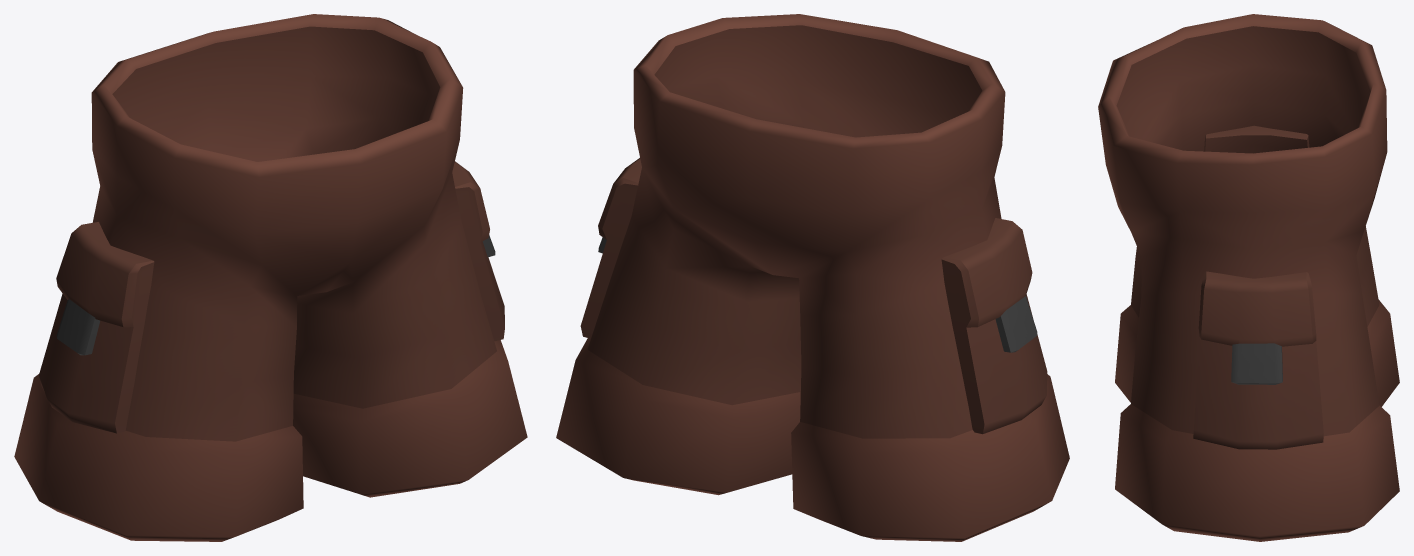
Rendered from Bottom_02_Slim.fbx.
The picture shows the model from 3 angles, left to right: view 1: azimuth 30°, elevation 25°; view 2: azimuth 150°, elevation 25°; view 3: azimuth 270°, elevation 25°; orthographic projection. The views are drawn at different scales.
Visible parts, largest first — view 1: Bottom_02_Slim; view 2: Bottom_02_Slim; view 3: Bottom_02_Slim.
Part boxes in pixels (x1,y1,x2,y2): Bottom_02_Slim: (14,14,527,541); Bottom_02_Slim: (556,14,1069,541); Bottom_02_Slim: (1098,14,1399,541).
Bounding box in the file's own units: 37.05 × 30.54 × 21.94.
